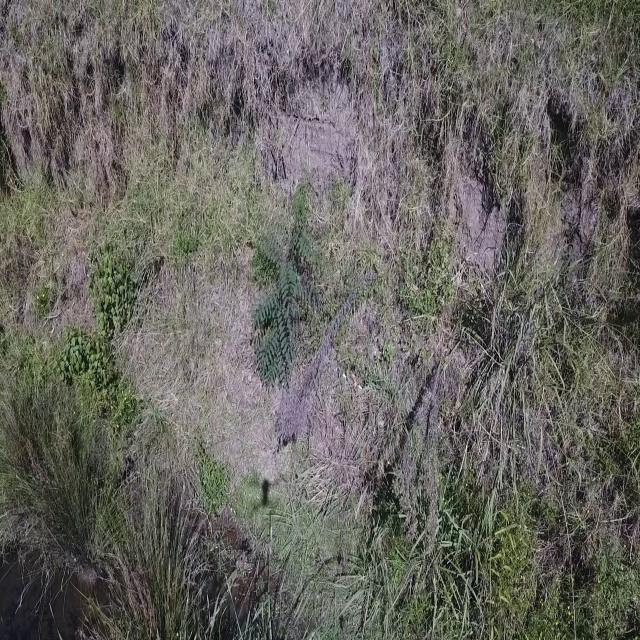Mysore-Thorn-Weed: (253, 220, 316, 380)
